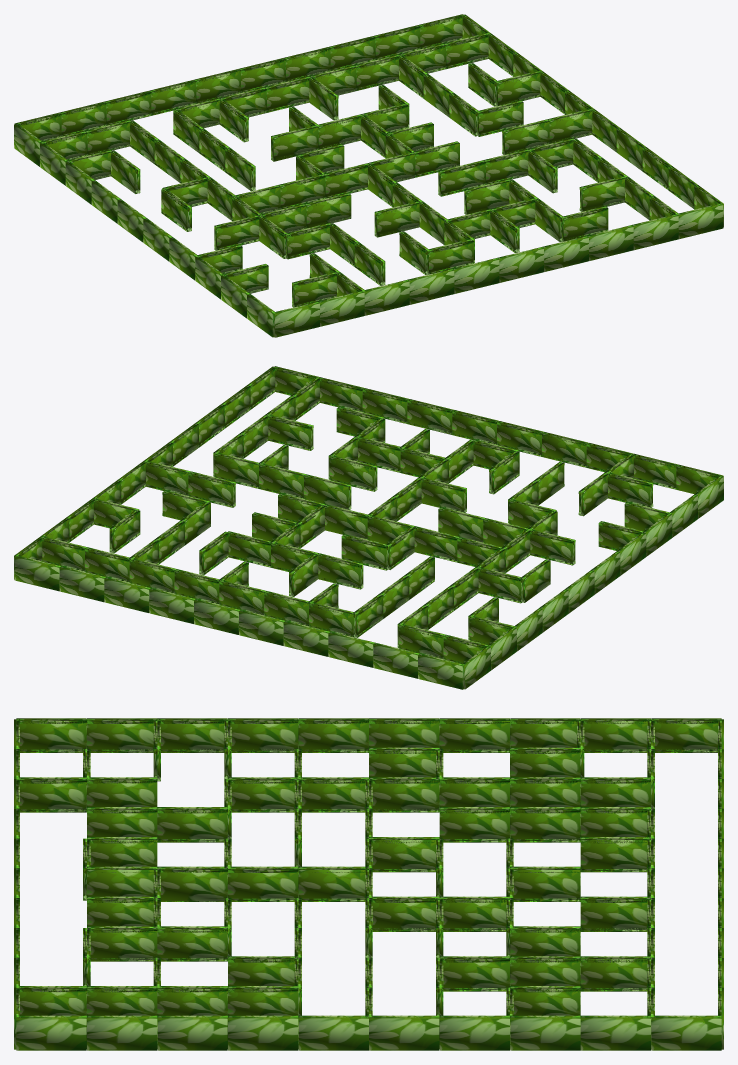
The model's file is BIG_maze.fbx.
The picture shows the model from 3 angles, top to bottom: view 1: azimuth 30°, elevation 25°; view 2: azimuth 150°, elevation 25°; view 3: azimuth 270°, elevation 25°; orthographic projection. The views are drawn at different scales.
Parts seen in each view (by area): view 1: WALL_BRO_Clone__186, WALL_BRO_Clone__194, WALL_BRO_Clone__192, WALL_BRO_Clone__184, WALL_BRO_Clone__196, WALL_BRO_Clone__201, WALL_BRO_Clone__75, WALL_BRO_Clone__188, WALL_BRO_Clone__190, WALL_BRO_Clone__191, WALL_BRO_Clone__197, WALL_BRO_Clone__15 (+92 smaller); view 2: WALL_BRO_Clone__6, WALL_BRO_Clone__15, WALL_BRO_Clone__4, WALL_BRO_Clone__14, WALL_BRO_Clone__20, WALL_BRO_Clone__190, WALL_BRO_Clone__2, WALL_BRO_Clone__8, WALL_BRO_Clone__17, WALL_BRO_Clone__10, WALL_BRO_Clone__12, WALL_BRO_Clone__194 (+87 smaller); view 3: WALL_BRO_Clone__45, WALL_BRO_Clone__143, WALL_BRO_Clone__64, WALL_BRO_Clone__123, WALL_BRO_Clone__161, WALL_BRO_Clone__21, WALL_BRO_Clone__103, WALL_BRO_Clone__83, WALL_BRO_Clone__185, WALL_BRO_Clone__1, WALL_BRO_Clone__56, WALL_BRO_Clone__154 (+47 smaller).
Part boxes in pixels (bbox=[...]): WALL_BRO_Clone__186: bbox=[632, 214, 678, 250]; WALL_BRO_Clone__194: bbox=[408, 269, 454, 304]; WALL_BRO_Clone__192: bbox=[452, 258, 499, 293]; WALL_BRO_Clone__184: bbox=[677, 203, 723, 239]; WALL_BRO_Clone__196: bbox=[364, 279, 409, 315]; WALL_BRO_Clone__201: bbox=[274, 301, 319, 337]; WALL_BRO_Clone__75: bbox=[271, 126, 318, 161]; WALL_BRO_Clone__188: bbox=[587, 225, 633, 260]; WALL_BRO_Clone__190: bbox=[542, 236, 588, 271]; WALL_BRO_Clone__191: bbox=[497, 247, 543, 282]; WALL_BRO_Clone__197: bbox=[318, 291, 364, 326]; WALL_BRO_Clone__15: bbox=[104, 91, 151, 125]; WALL_BRO_Clone__6: bbox=[104, 577, 150, 612]; WALL_BRO_Clone__15: bbox=[328, 631, 374, 667]; WALL_BRO_Clone__4: bbox=[59, 566, 105, 602]; WALL_BRO_Clone__14: bbox=[283, 621, 329, 656]; WALL_BRO_Clone__20: bbox=[418, 653, 464, 689]; WALL_BRO_Clone__190: bbox=[407, 399, 453, 434]; WALL_BRO_Clone__2: bbox=[14, 556, 61, 591]; WALL_BRO_Clone__8: bbox=[149, 588, 195, 623]; WALL_BRO_Clone__17: bbox=[373, 642, 419, 678]; WALL_BRO_Clone__10: bbox=[194, 599, 240, 634]; WALL_BRO_Clone__12: bbox=[239, 610, 285, 645]; WALL_BRO_Clone__194: bbox=[542, 432, 588, 467]; WALL_BRO_Clone__45: bbox=[510, 1015, 580, 1050]; WALL_BRO_Clone__143: bbox=[157, 1015, 227, 1050]; WALL_BRO_Clone__64: bbox=[439, 1015, 509, 1050]; WALL_BRO_Clone__123: bbox=[228, 1015, 298, 1050]; WALL_BRO_Clone__161: bbox=[87, 1015, 157, 1050]; WALL_BRO_Clone__21: bbox=[580, 1015, 650, 1050]; WALL_BRO_Clone__103: bbox=[298, 1015, 368, 1050]; WALL_BRO_Clone__83: bbox=[369, 1015, 439, 1050]; WALL_BRO_Clone__185: bbox=[16, 1015, 86, 1050]; WALL_BRO_Clone__1: bbox=[651, 1015, 721, 1050]; WALL_BRO_Clone__56: bbox=[510, 808, 580, 842]; WALL_BRO_Clone__154: bbox=[157, 808, 227, 842].
Bounding box in the file's own units: 40262 × 2019 × 40262.
1 material, 1 textured.
